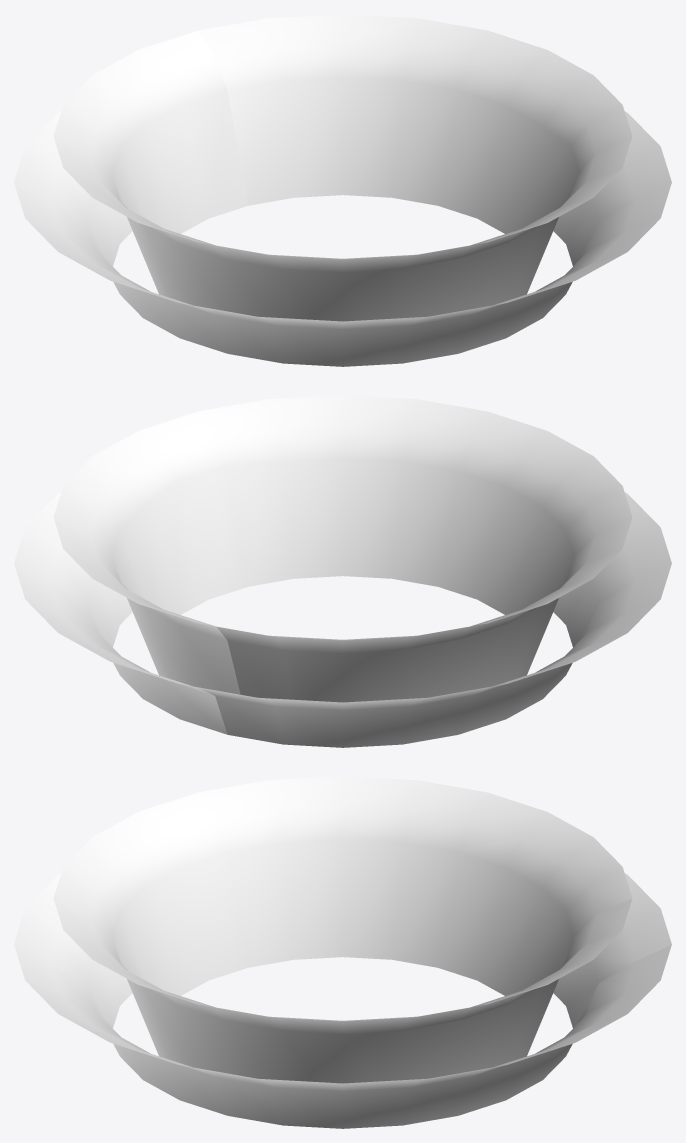
The model's file is peachfountain.dae.
3 renders of one model, top to bottom at view 1: azimuth 30°, elevation 25°; view 2: azimuth 150°, elevation 25°; view 3: azimuth 270°, elevation 25°, orthographic.
Visible parts, largest first — view 1: n0b0; view 2: n0b0; view 3: n0b0.
Part boxes in pixels (x1,y1,x2,y2): n0b0: (14,14,671,366); n0b0: (14,395,671,747); n0b0: (14,776,671,1128).
Size of the model in its own units: 3195 by 744 by 3195.
Materials: 1 (1 with a texture image).
